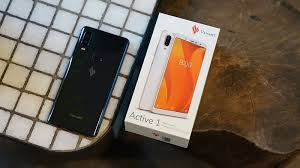vsmart: (41, 24, 131, 140)
